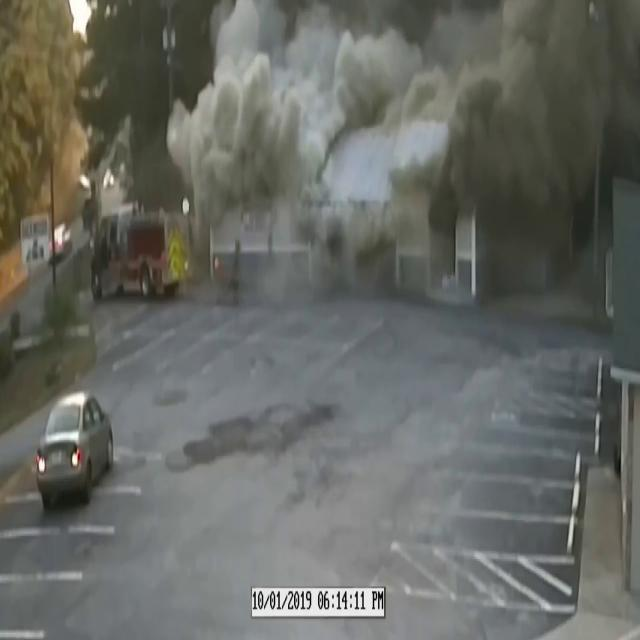Smoke: (166, 0, 640, 305)
